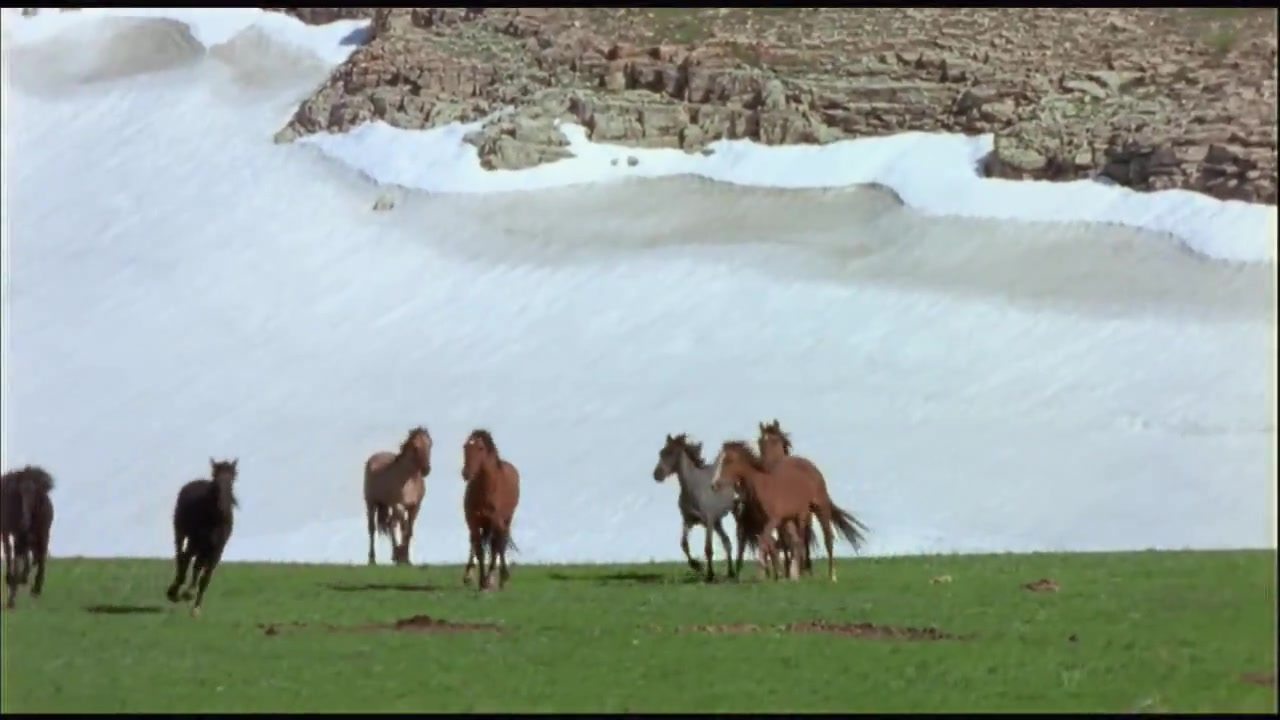horse: (169, 455, 245, 618)
